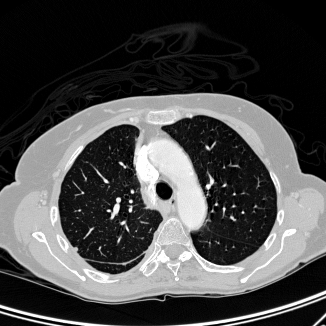nodule: (74, 247, 78, 251)
